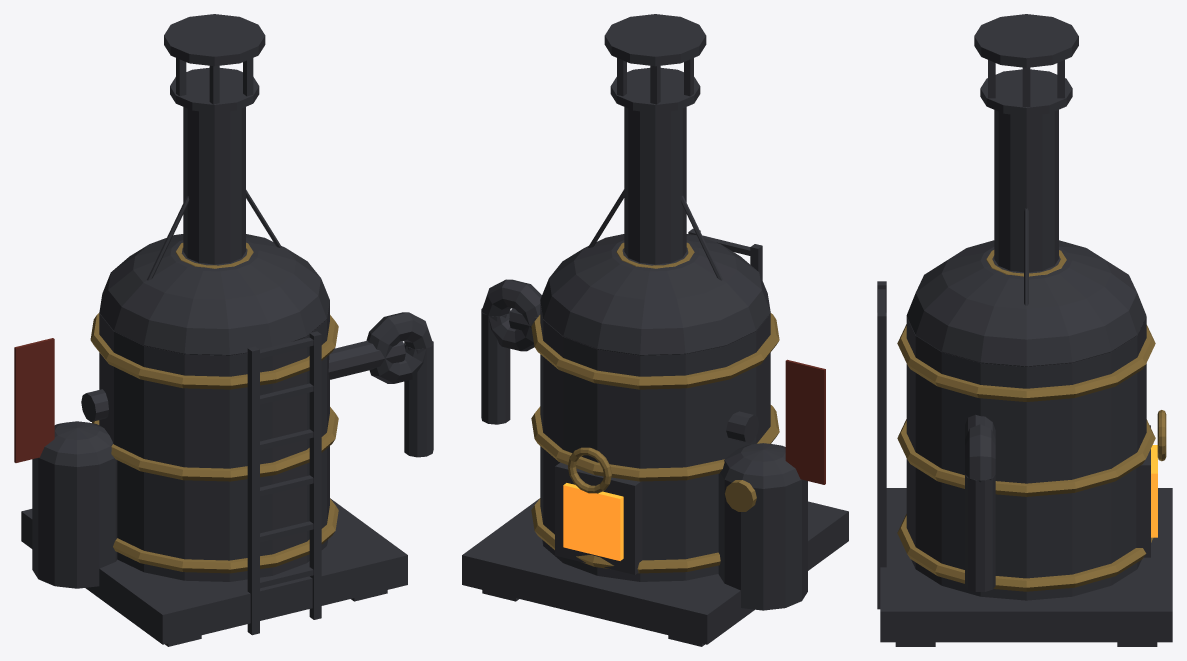
The model's file is team_tether_boiler_chimney.glb.
3 renders of one model, left to right at view 1: azimuth 30°, elevation 25°; view 2: azimuth 150°, elevation 25°; view 3: azimuth 270°, elevation 25°, orthographic. The views are drawn at different scales.
Visible parts, largest first — view 1: Body, Dome, Plinth, Tank, Stack, Pennant, CapLid, LadderRail, Band.002, LadderRail.001, Band.001, PipeElbow (+6 smaller); view 2: Body, Dome, Plinth, Tank, Stack, Pennant, CapLid, DoorGlow, Band.002, DoorFrame, Band.001, PipeElbow (+7 smaller); view 3: Body, Dome, Plinth, Stack, CapLid, Band.002, Band.001, PipeC, Band, CapFloor, LadderRail.001, PipeElbow (+5 smaller).
Boxes of the visible parts, x1,y1,x2,y2 form: Body: (99,301,329,581); Dome: (99,234,329,355); Plinth: (21,498,407,644); Tank: (32,458,117,588); Stack: (183,107,245,264); Pennant: (14,338,54,462); CapLid: (164,14,265,66); LadderRail: (247,346,259,635); Band.002: (90,313,338,389); LadderRail.001: (309,331,321,619); Band.001: (92,407,338,481); PipeElbow: (366,312,433,383); Body: (540,302,770,581); Dome: (540,234,770,355); Plinth: (462,498,848,644); Tank: (718,473,807,610); Stack: (624,107,686,264); Pennant: (785,359,825,484); CapLid: (604,14,706,66); DoorGlow: (563,483,623,560); Band.002: (531,313,779,389); DoorFrame: (555,462,642,574); Band.001: (531,405,779,481); PipeElbow: (481,279,541,351); Body: (906,316,1146,600); Dome: (906,240,1146,366); Plinth: (880,488,1172,642); Stack: (994,110,1058,272); CapLid: (974,14,1078,67); Band.002: (897,324,1155,401); Band.001: (897,419,1155,496); PipeC: (965,474,995,591); Band: (897,514,1153,591); CapFloor: (980,69,1072,116); LadderRail.001: (877,312,886,609); PipeElbow: (965,424,995,482).
Bounding box in the file's own units: 2.94 × 3.99 × 1.92.
